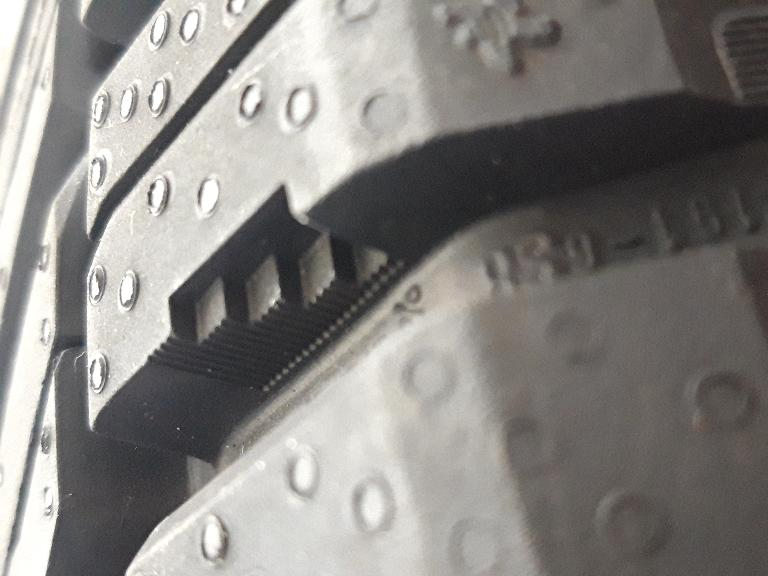temoin:100: (143, 178, 411, 396)
